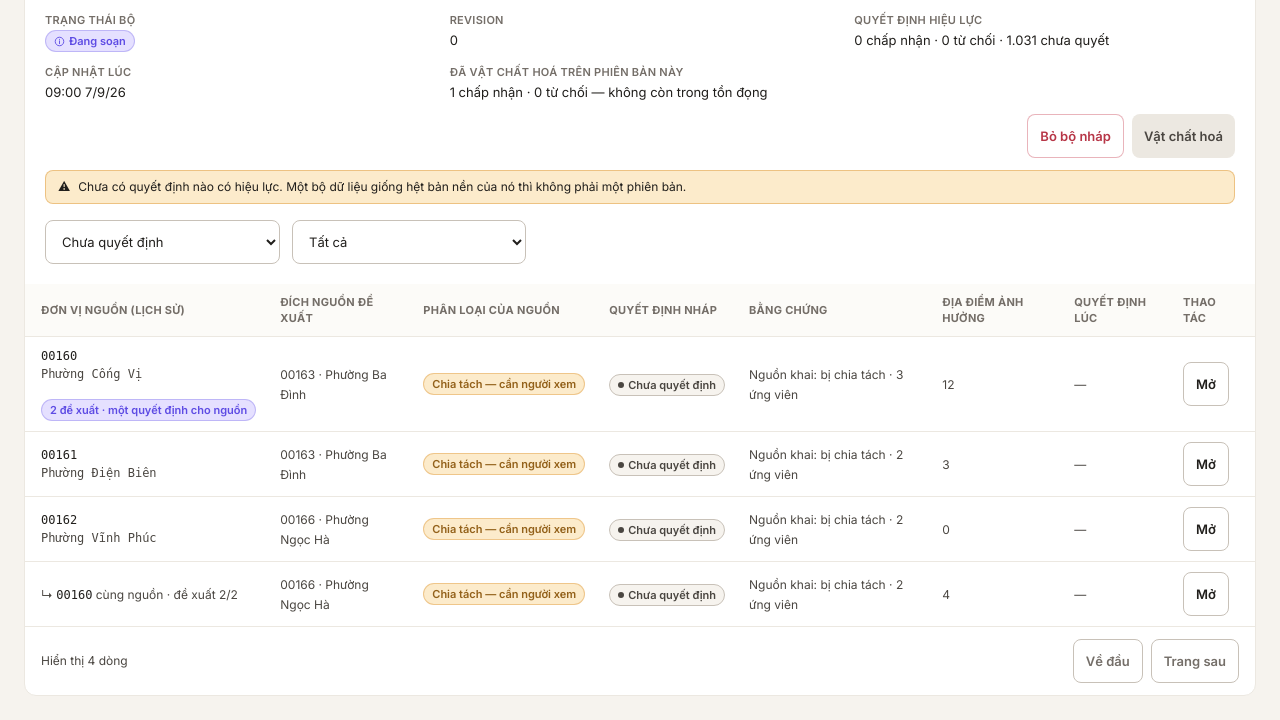
Test case: the row detail › renders every candidate as an identity with its effective period
(page scrolled)
Click the button "Mở" in the row of "Phường Cống Vị": coordinates (1206, 384) [1183, 362, 1229, 406]
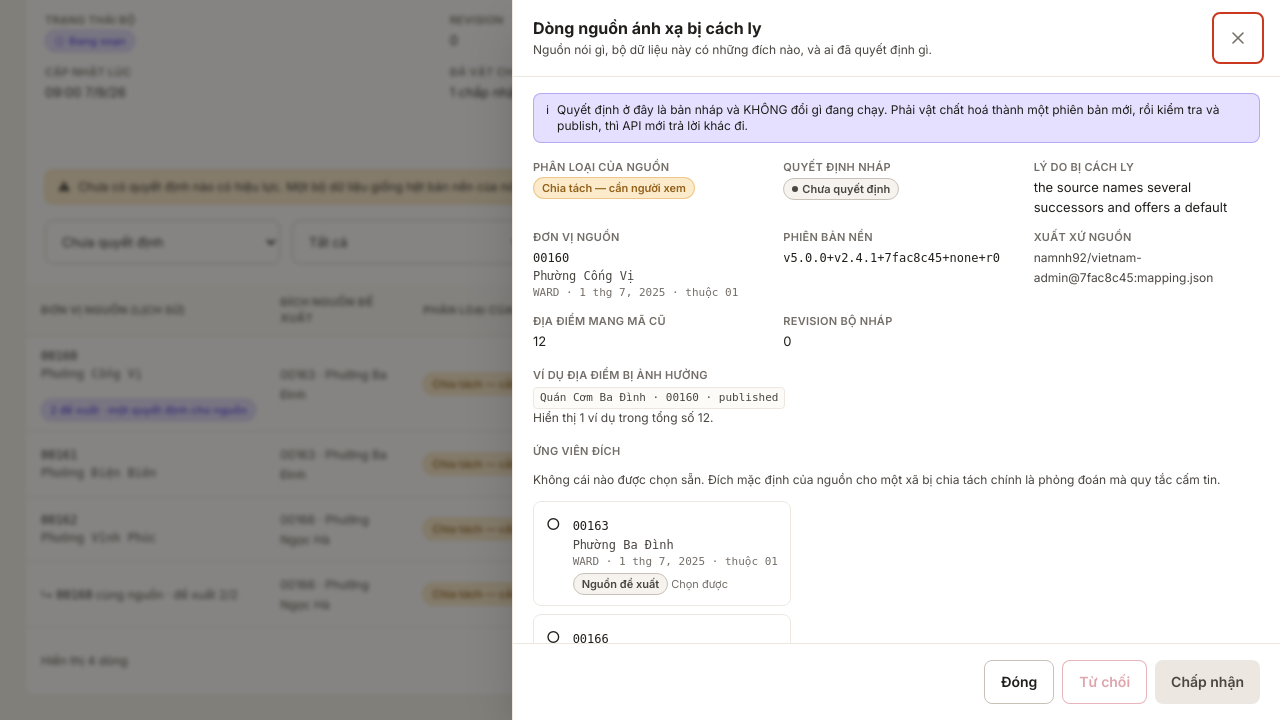
expect the text "Phường Cống Vị" is shown: met, box [533, 269, 634, 283]
expect the text "00163" is shown: met, box [573, 519, 609, 533]
expect the text "00166" is shown: met, box [573, 632, 609, 643]
